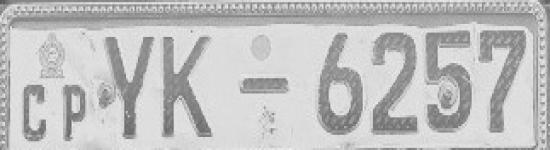-: (232, 66, 300, 110)
2: (366, 24, 421, 143)
5: (422, 22, 476, 139)
6: (302, 25, 366, 142)
7: (474, 19, 530, 141)
C: (16, 80, 53, 145)
K: (158, 25, 220, 144)
P: (51, 79, 90, 144)
Y: (98, 25, 158, 144)
